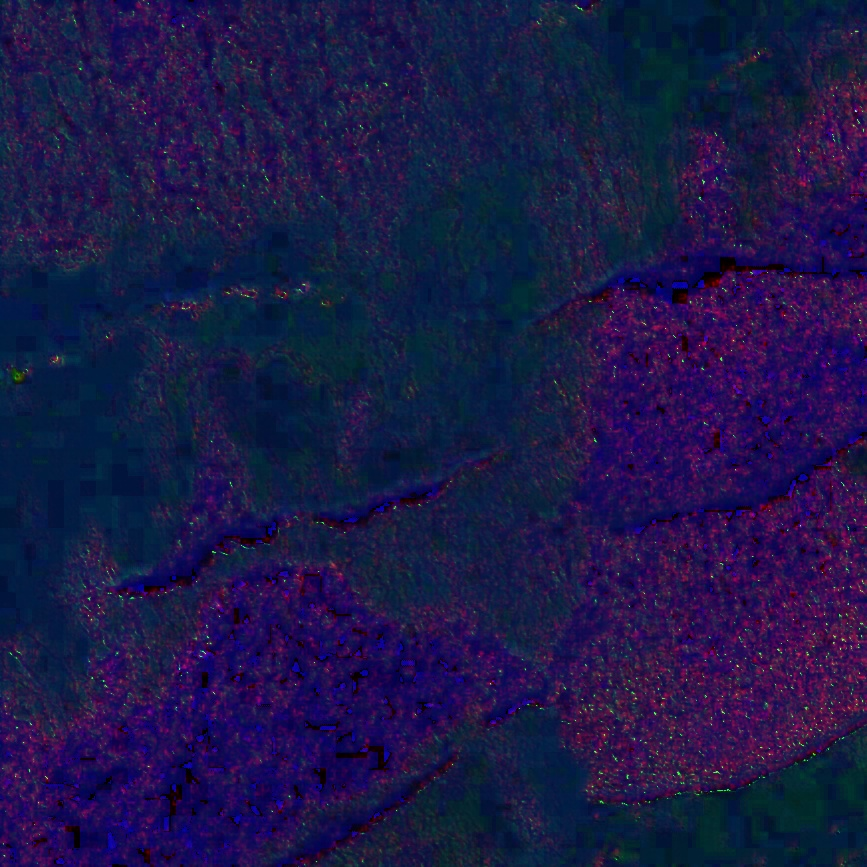rip_current: (258, 200, 687, 791)
